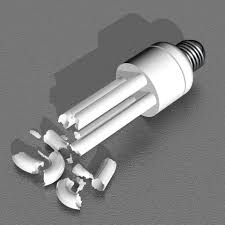glass: (55, 34, 209, 156), (55, 177, 88, 213), (91, 156, 119, 192), (9, 148, 43, 176), (42, 150, 65, 187), (39, 125, 69, 153), (69, 160, 96, 179), (26, 127, 44, 139)
